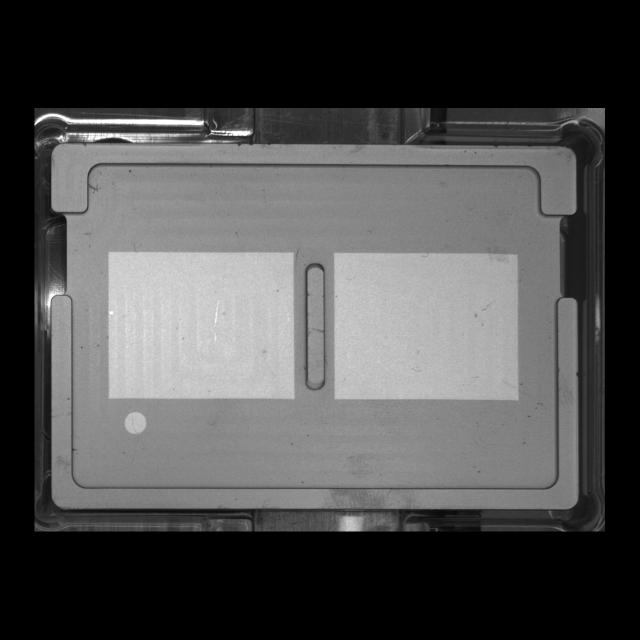door: (42, 132, 588, 232)
point: (119, 408, 152, 440)
